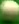white: (0, 0, 19, 24)
